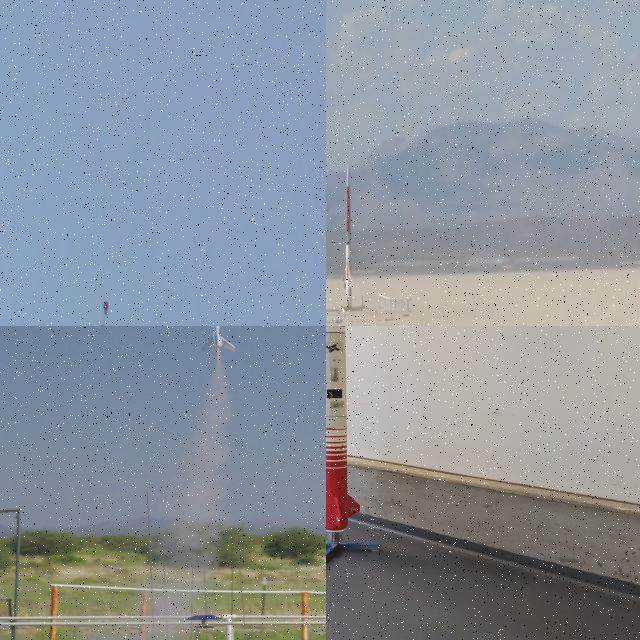Rocket: (326, 326, 360, 533), (342, 164, 353, 286), (199, 326, 238, 353)
